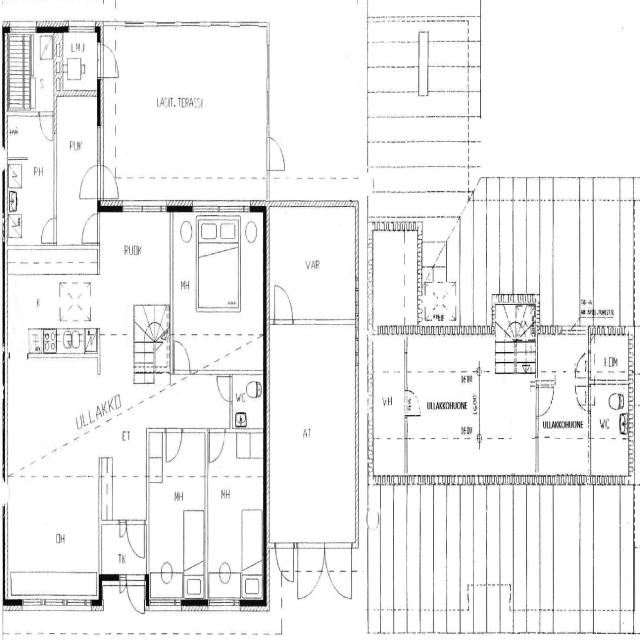door: (296, 544, 327, 605), (325, 545, 355, 604), (271, 280, 295, 327), (125, 518, 149, 563), (77, 161, 100, 204), (266, 132, 288, 175), (99, 162, 121, 205), (97, 41, 120, 82), (125, 572, 146, 616), (275, 542, 296, 586), (172, 336, 192, 378), (207, 425, 226, 468), (80, 209, 100, 249), (164, 427, 183, 468), (535, 381, 555, 419), (39, 213, 58, 250), (38, 110, 56, 143), (215, 372, 233, 405), (406, 387, 422, 418), (575, 385, 588, 409), (116, 572, 128, 598)
window: (18, 590, 92, 617), (289, 313, 353, 334), (121, 198, 168, 220), (200, 200, 250, 220), (206, 594, 242, 614), (148, 594, 183, 613), (94, 120, 105, 172), (67, 20, 97, 36), (226, 18, 244, 32), (2, 477, 9, 509), (1, 145, 7, 174)
zone: (101, 25, 268, 204), (7, 249, 100, 471), (268, 323, 358, 544), (171, 211, 265, 371), (5, 472, 108, 598), (146, 431, 207, 604), (268, 207, 359, 322), (205, 431, 265, 603), (6, 108, 56, 248), (56, 90, 100, 241), (99, 212, 172, 300), (591, 481, 631, 629), (370, 228, 414, 333), (100, 444, 148, 524), (588, 383, 630, 473), (371, 338, 406, 443), (5, 30, 48, 114), (56, 30, 99, 98), (589, 334, 632, 385), (230, 373, 264, 432), (420, 278, 460, 328), (30, 34, 54, 114)
